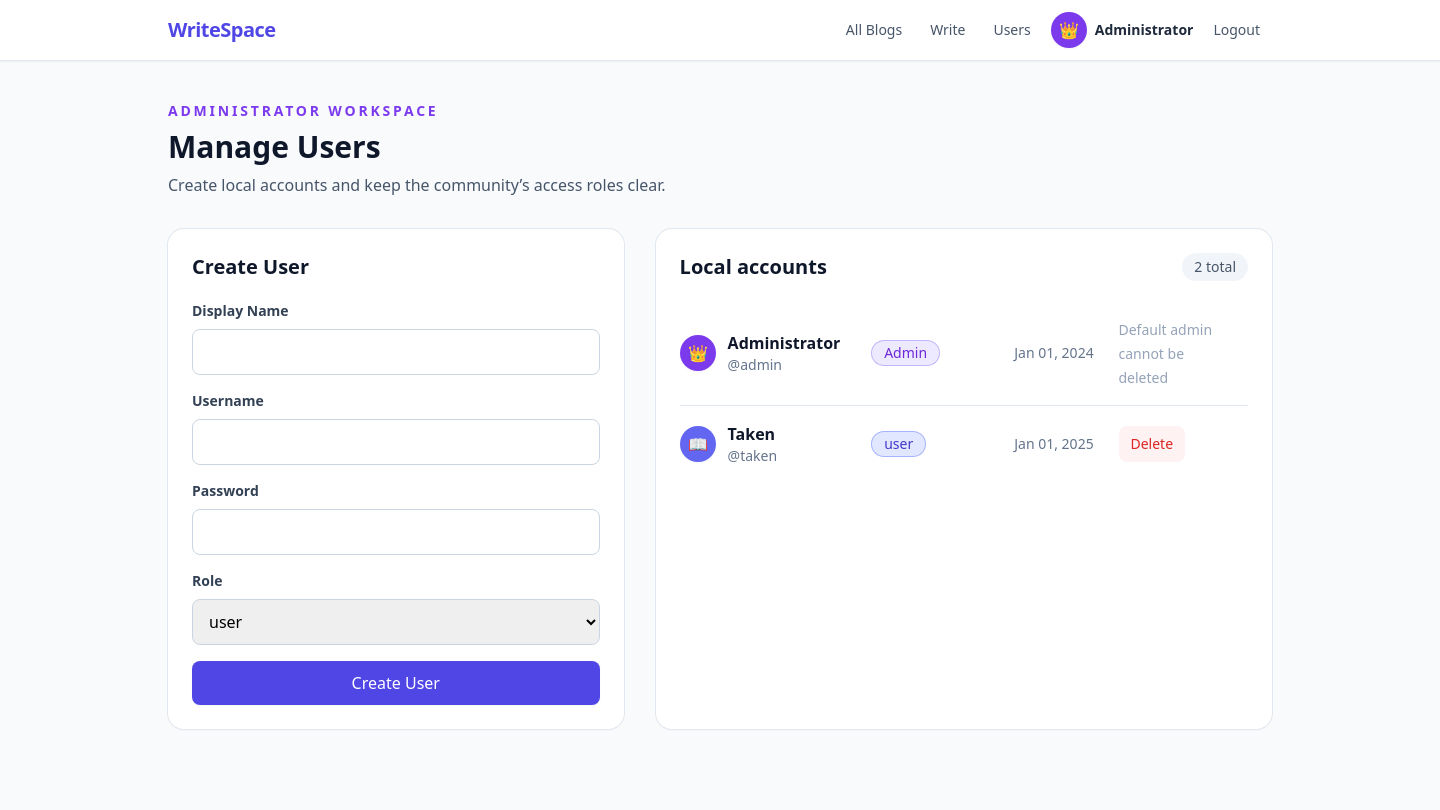
Test case: UserManagement › rejects duplicate usernames and exposes a field-level error
This screenshot has width=1440, height=810.
In the field labelled "Display Name": (396, 352) [192,329,600,375], type "Taken"
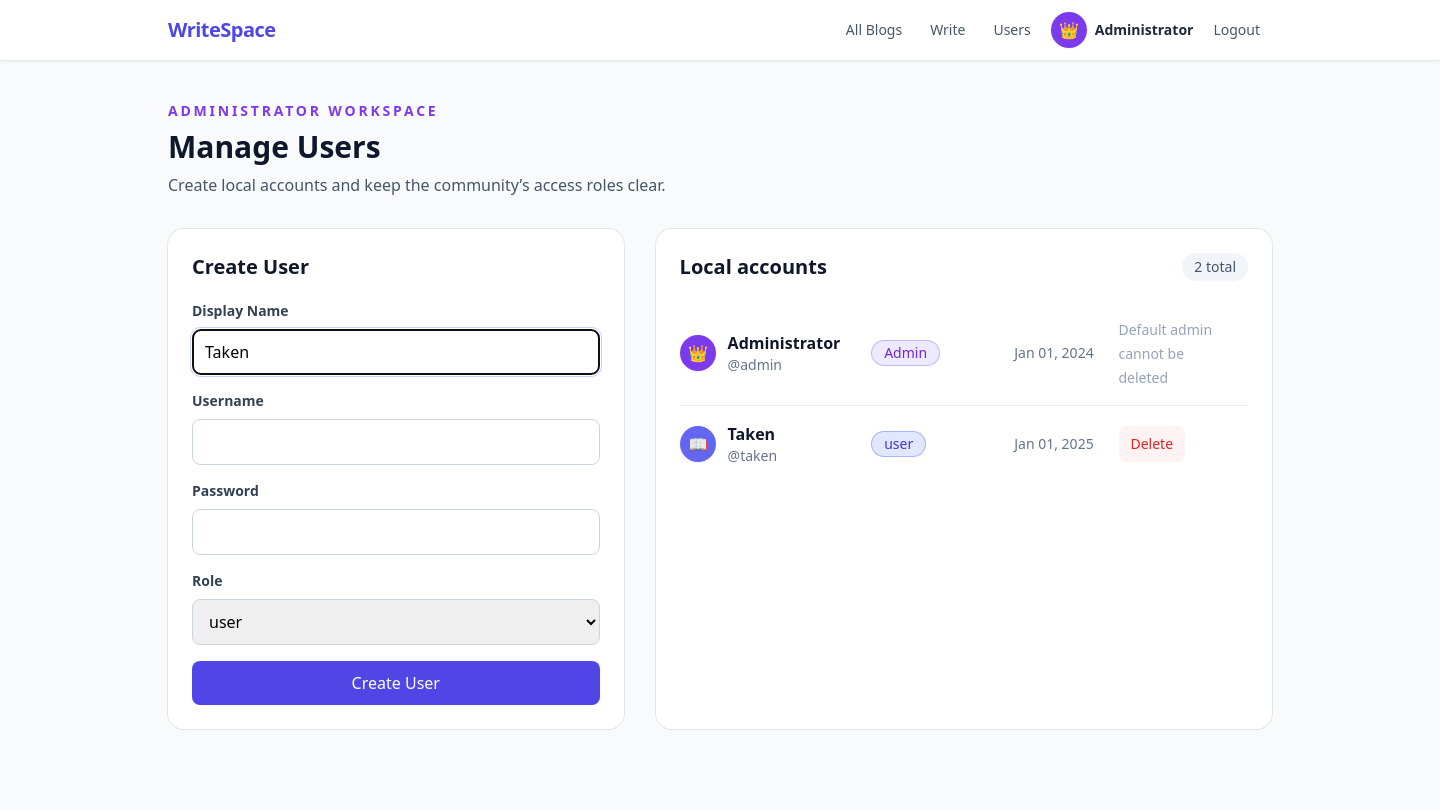
In the field labelled "Username": (396, 442) [192,419,600,465], type "taken"
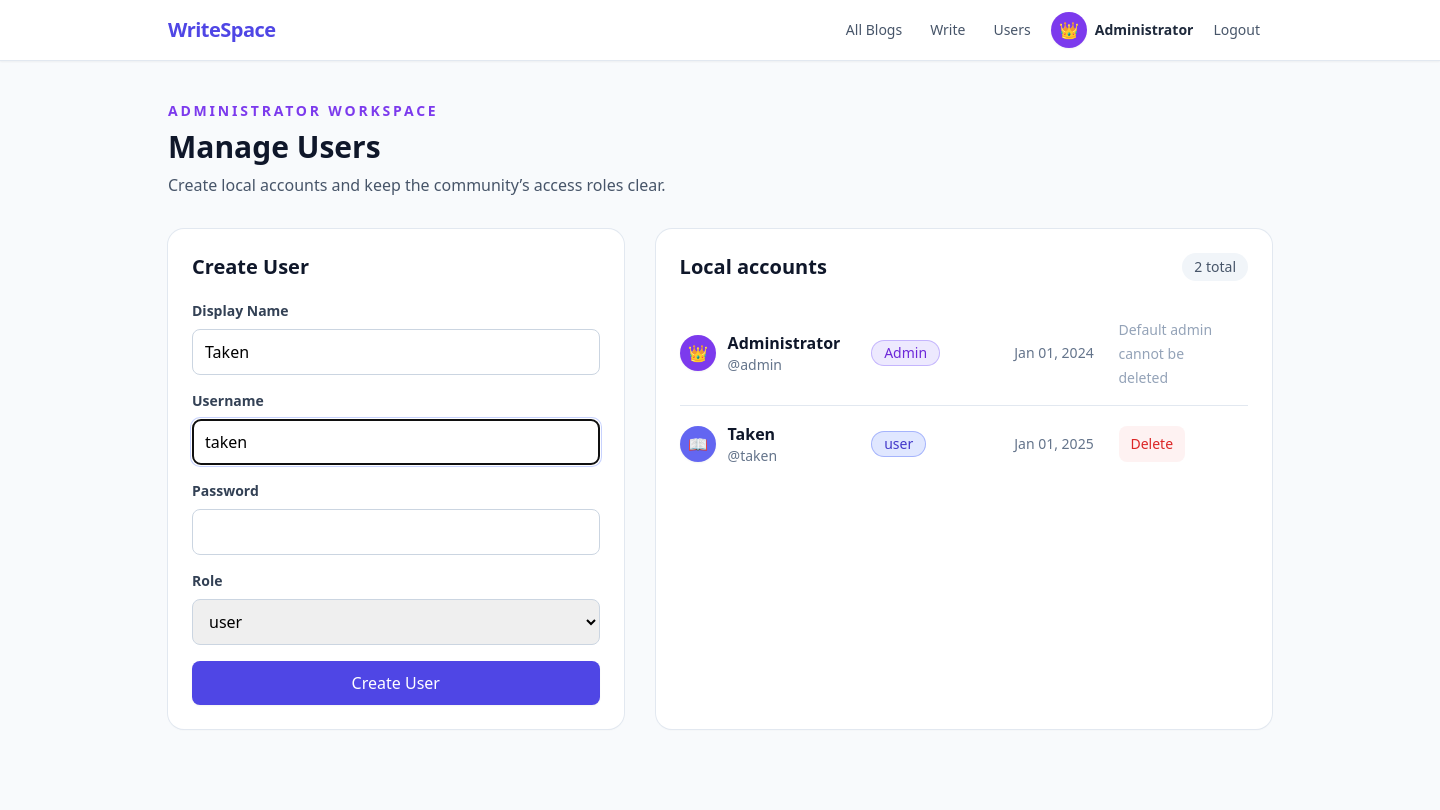
In the password field labelled "Password": (396, 532) [192,509,600,555], type "secret"
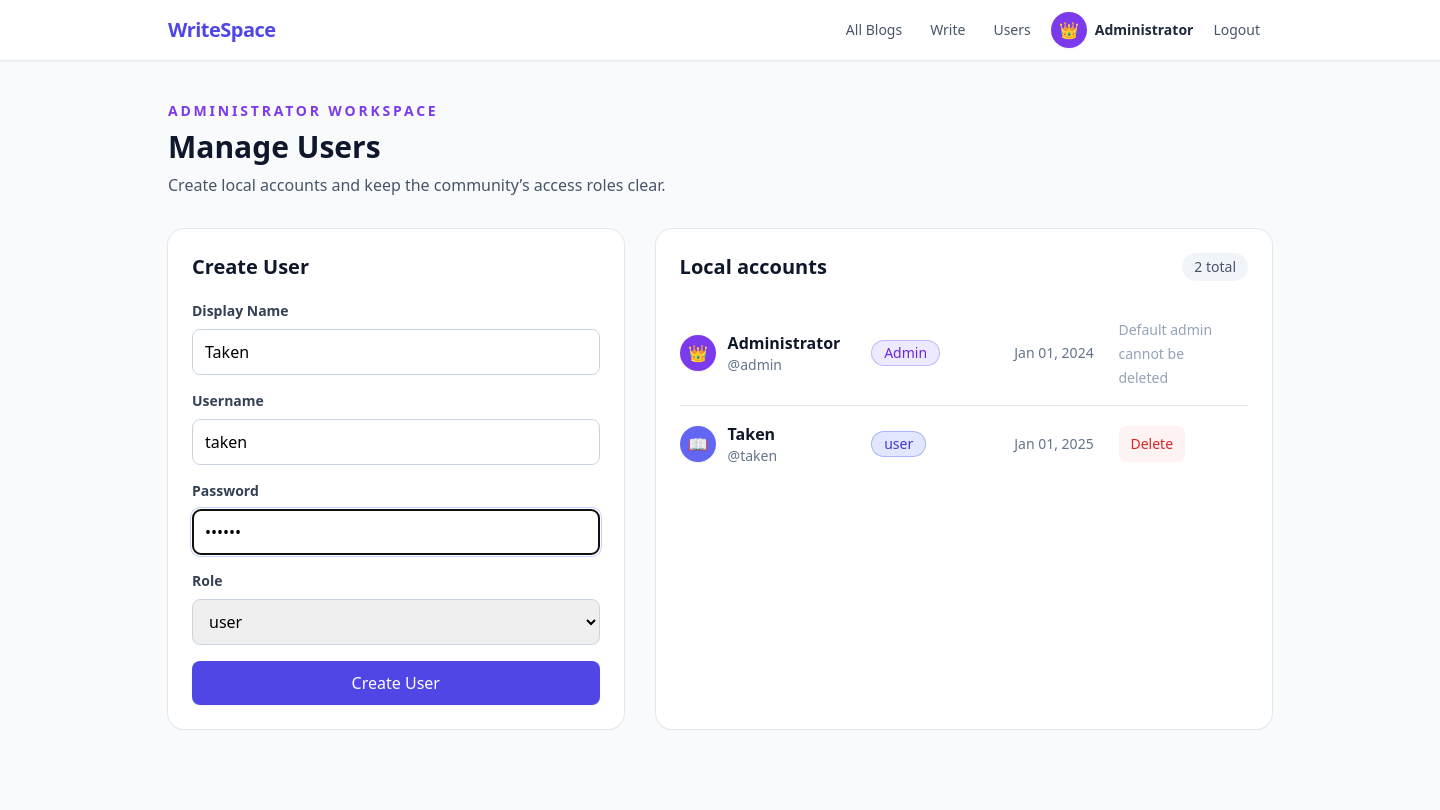
Click the button "Create User": (396, 683) [192,661,600,705]
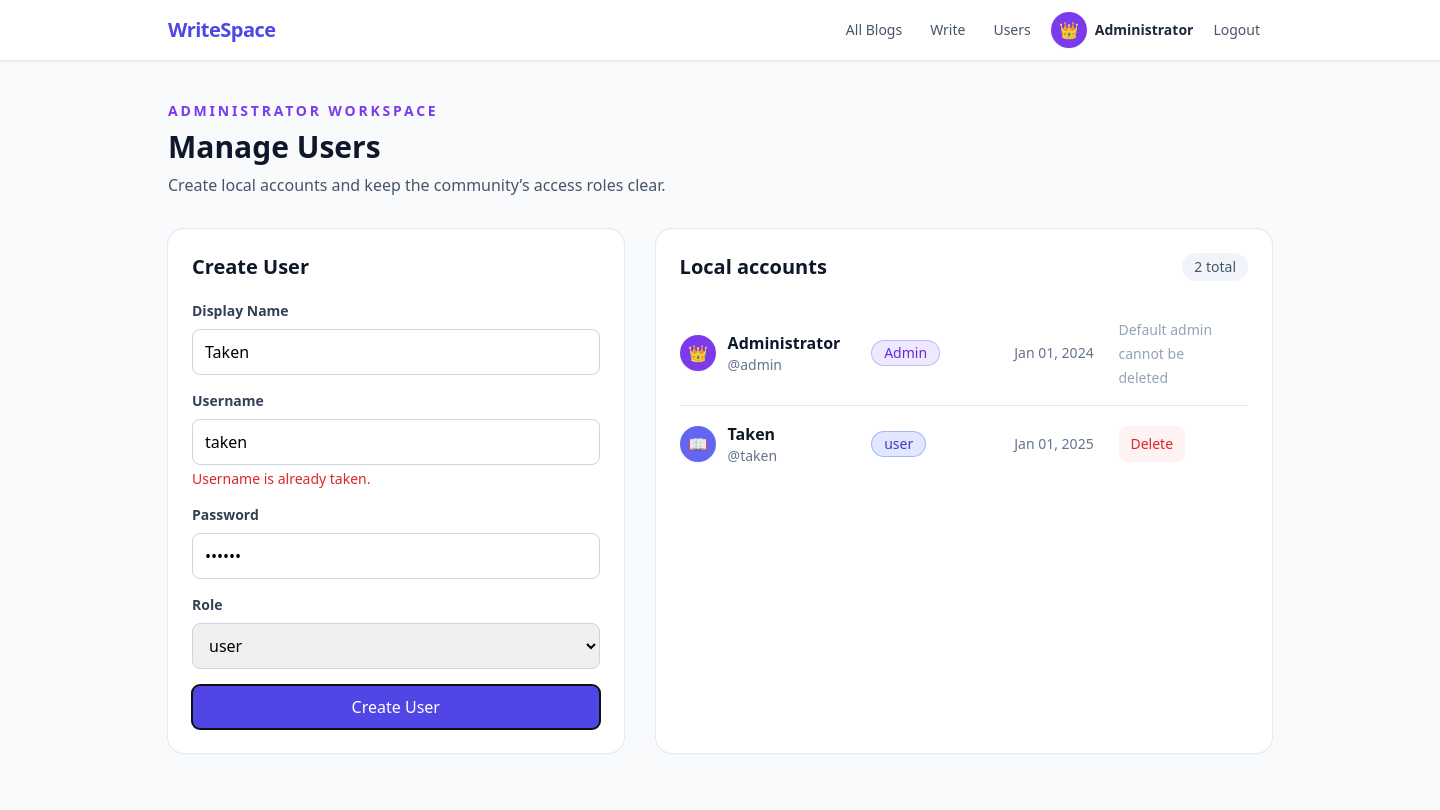
Expected: the text "Username is already taken." is shown, [192,469,370,488]
